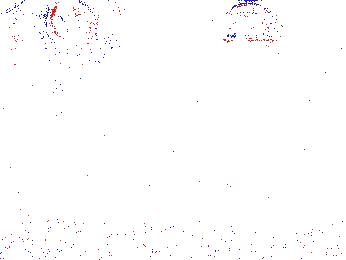moon jellyfish: (46, 1, 123, 63), (45, 34, 90, 92), (218, 3, 283, 43), (287, 1, 346, 45), (4, 33, 46, 94)
